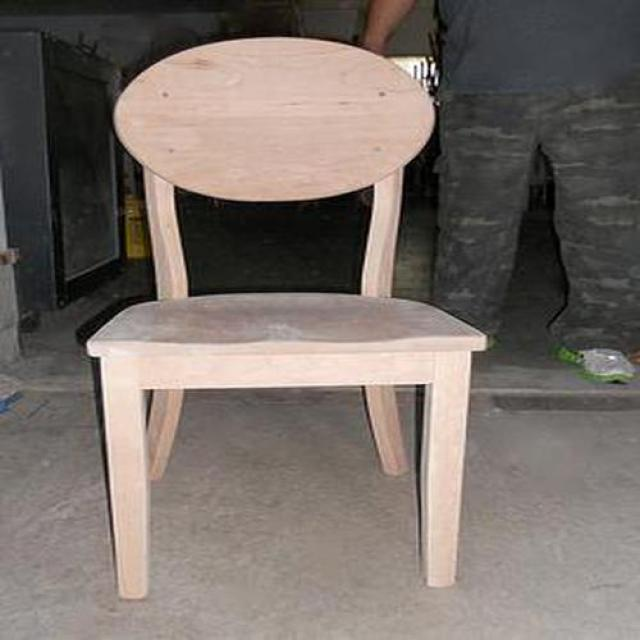chair: (84, 37, 489, 604)
